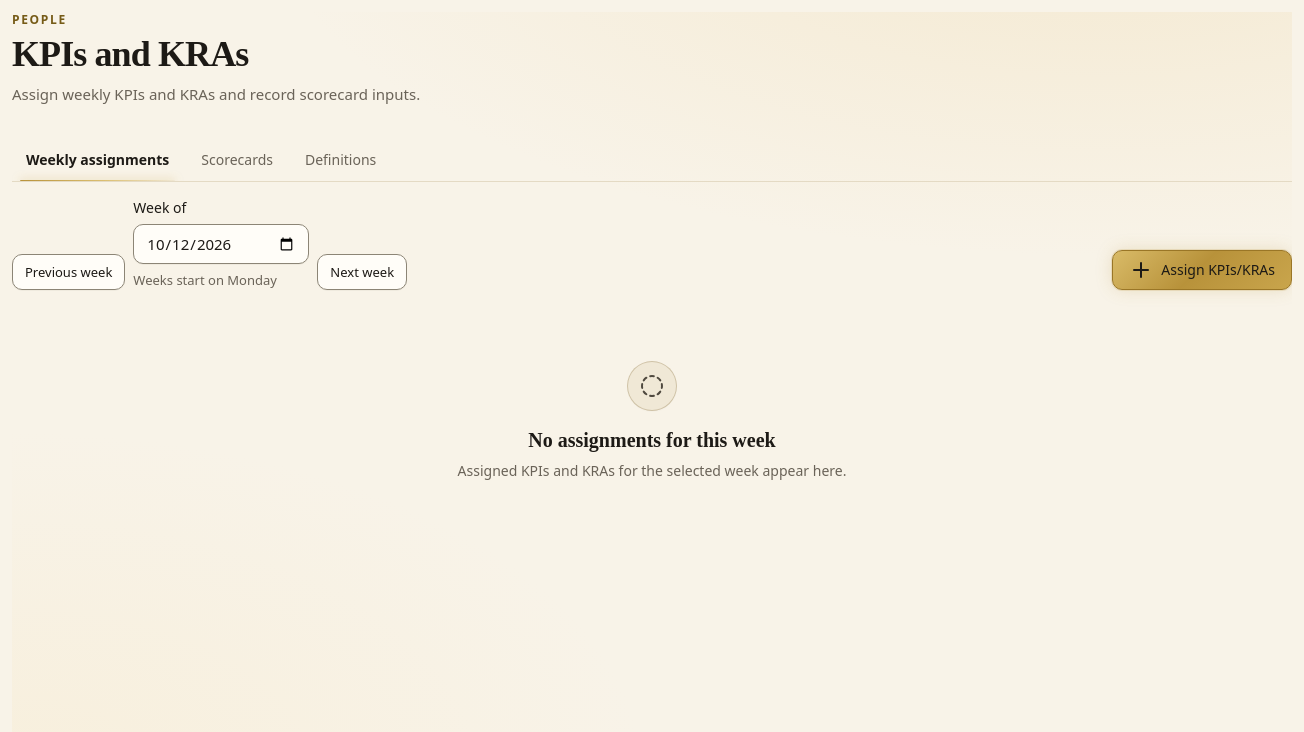
Test: KPI logic and page › states honestly that scorecards hold inputs only
The image size is (1304, 732).
Click the tab "Scorecards". click: {"x": 237, "y": 160}
box: [187,138,287,182]
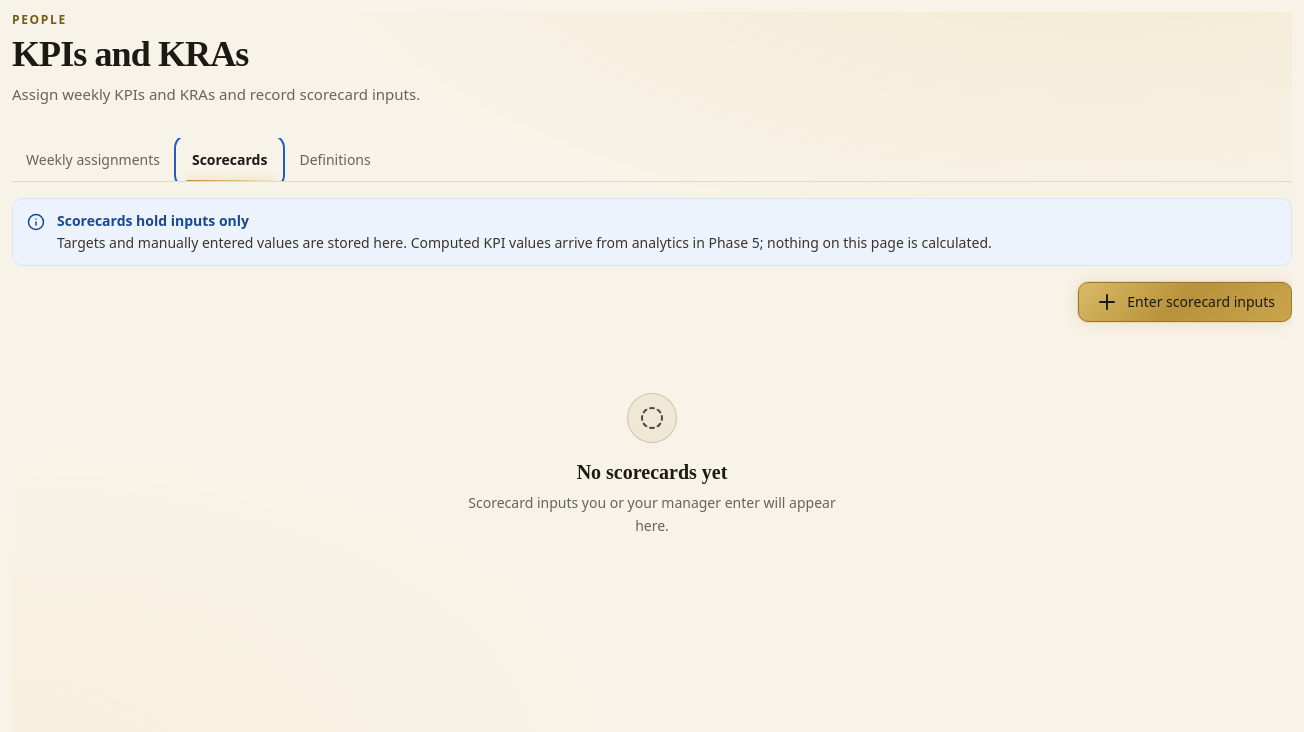
expect the text "Scorecards hold inputs only" is shown: met, box [57,211,249,230]
expect the text "nothing on this page is calculated" is shown: met, box [57,233,992,252]
